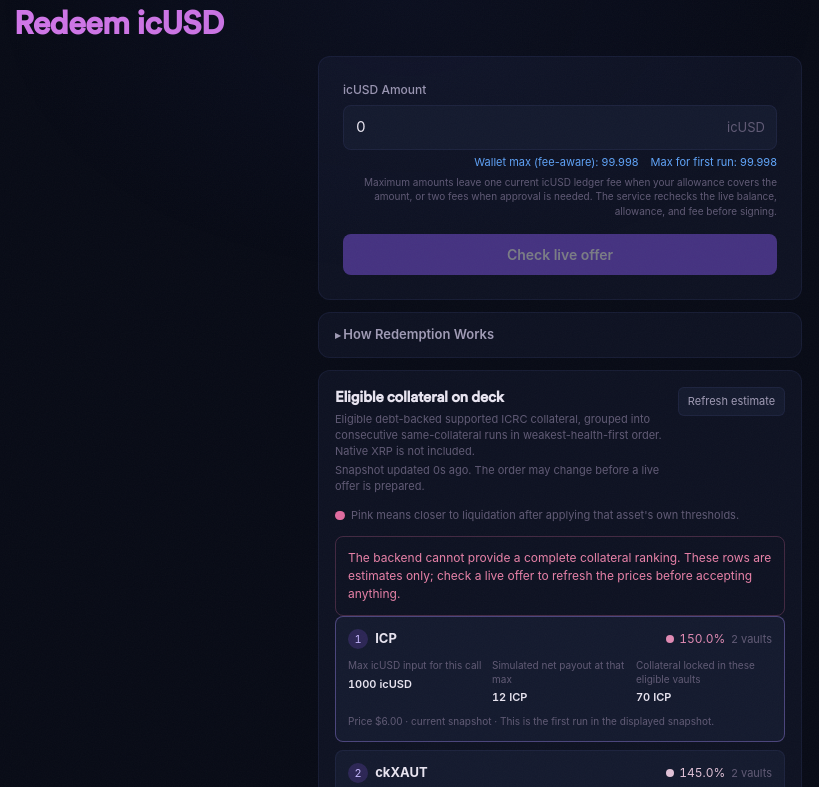
Scenario: redemption route quote and queue safety › fails closed when the backend marks the global ranking incomplete
Replace the text in the number field with id "icusd-amount" with "10": x=560, y=127 [343,105,777,150]
Wait 350 ms
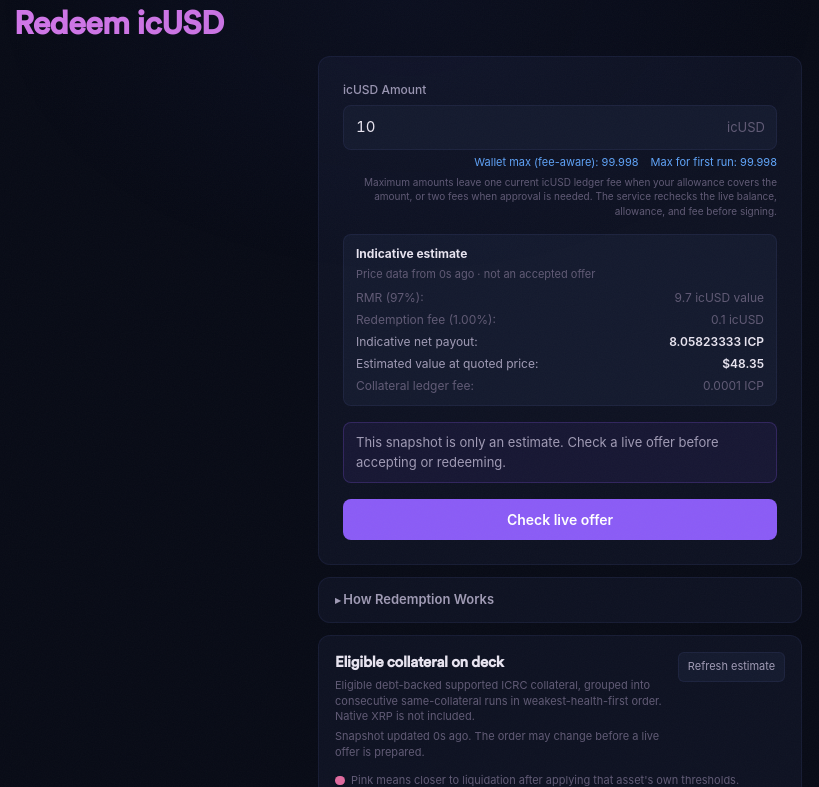
Click the button with id "check-live-offer": x=560, y=520 [343,499,777,540]
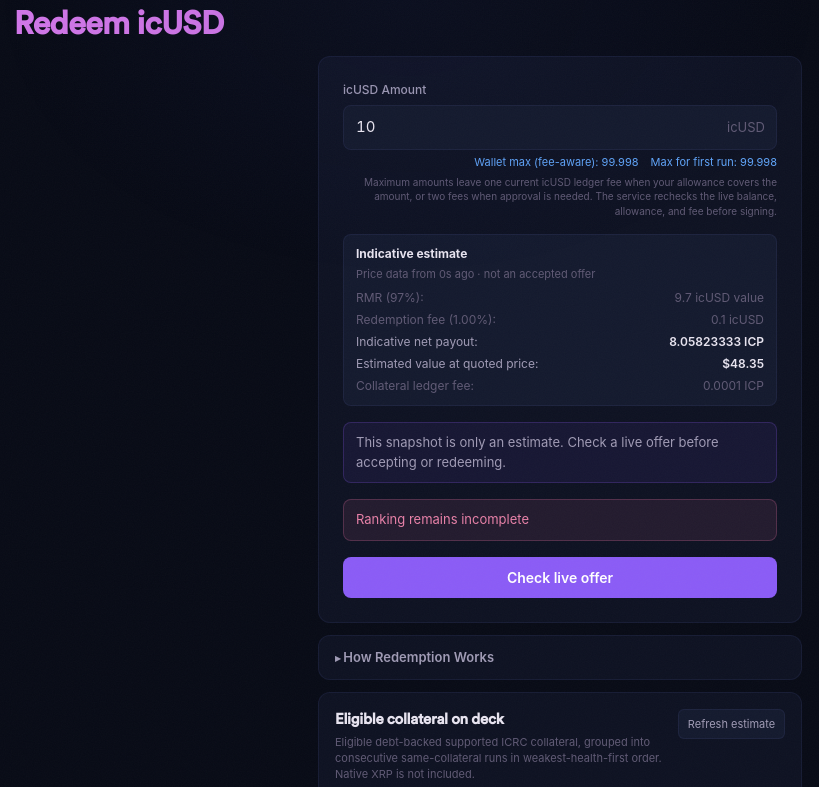
Expected: the text "Indicative estimate" is shown, [356,246,467,261]
Expected: the text "Ranking remains incomplete" is shown, [356,511,529,527]
